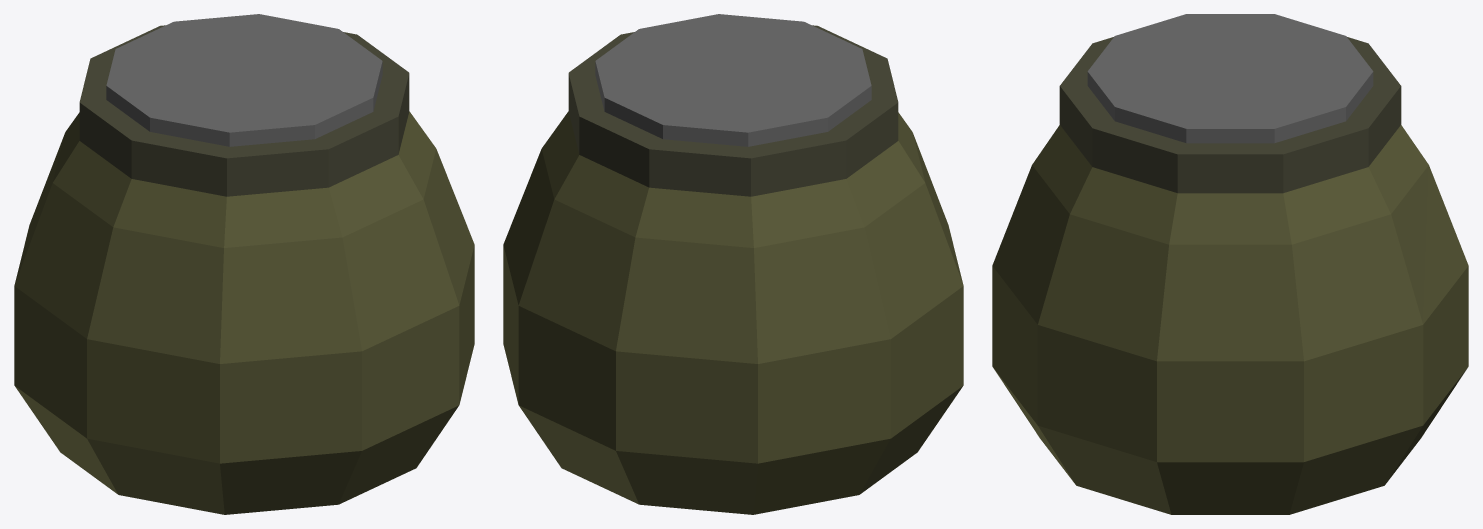
Rendered from ce_ammo2_sling_steel_c.obj.
3 renders of one model, left to right at view 1: azimuth 30°, elevation 25°; view 2: azimuth 150°, elevation 25°; view 3: azimuth 270°, elevation 25°, orthographic.
Visible parts, largest first — view 1: ce_ammo2_sling_steel_c_0, ce_ammo2_sling_steel_c_2, ce_ammo2_sling_steel_c_1; view 2: ce_ammo2_sling_steel_c_0, ce_ammo2_sling_steel_c_2, ce_ammo2_sling_steel_c_1; view 3: ce_ammo2_sling_steel_c_0, ce_ammo2_sling_steel_c_2, ce_ammo2_sling_steel_c_1.
Boxes of the visible parts, x1,y1,x2,y2 form: ce_ammo2_sling_steel_c_0: (14,111,474,514); ce_ammo2_sling_steel_c_2: (106,14,382,146); ce_ammo2_sling_steel_c_1: (79,25,409,196); ce_ammo2_sling_steel_c_0: (503,111,963,514); ce_ammo2_sling_steel_c_2: (595,14,871,146); ce_ammo2_sling_steel_c_1: (568,25,898,196); ce_ammo2_sling_steel_c_0: (992,125,1468,514); ce_ammo2_sling_steel_c_2: (1087,14,1373,143); ce_ammo2_sling_steel_c_1: (1059,37,1401,193).
Bounding box in the file's own units: 0.5706 × 0.51 × 0.6.
